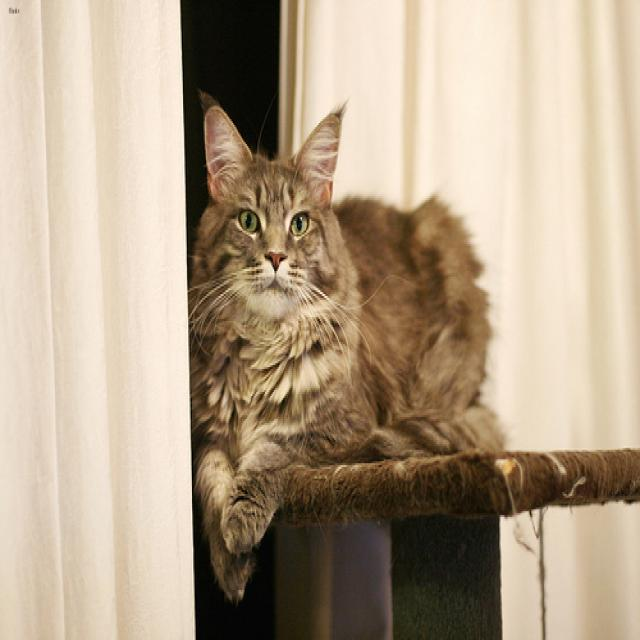cat: (202, 102, 339, 313)
